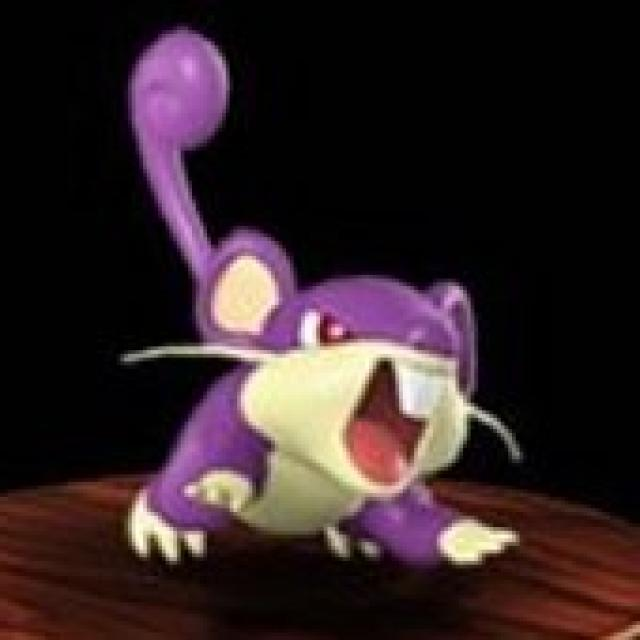Rattata: (127, 221, 485, 592)
